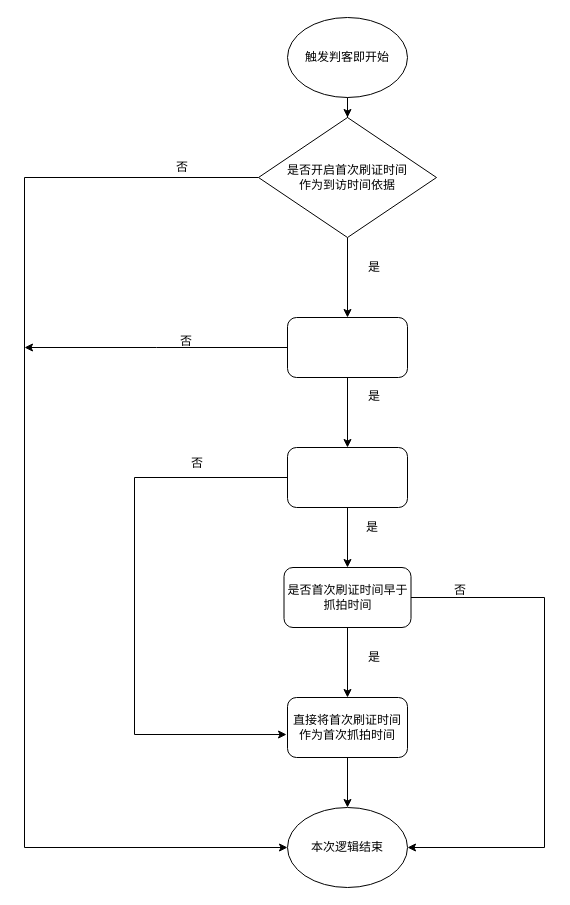
Image size: 570x905. Some labels were removed from this diagram. The centre of each missing label's shape, as x and y in pixels:
"是否有首次成功刷证记录（认证类型是人证一体机）" belongs at (x=347, y=347).
"是否有首次抓拍时间" belongs at (x=347, y=477).
